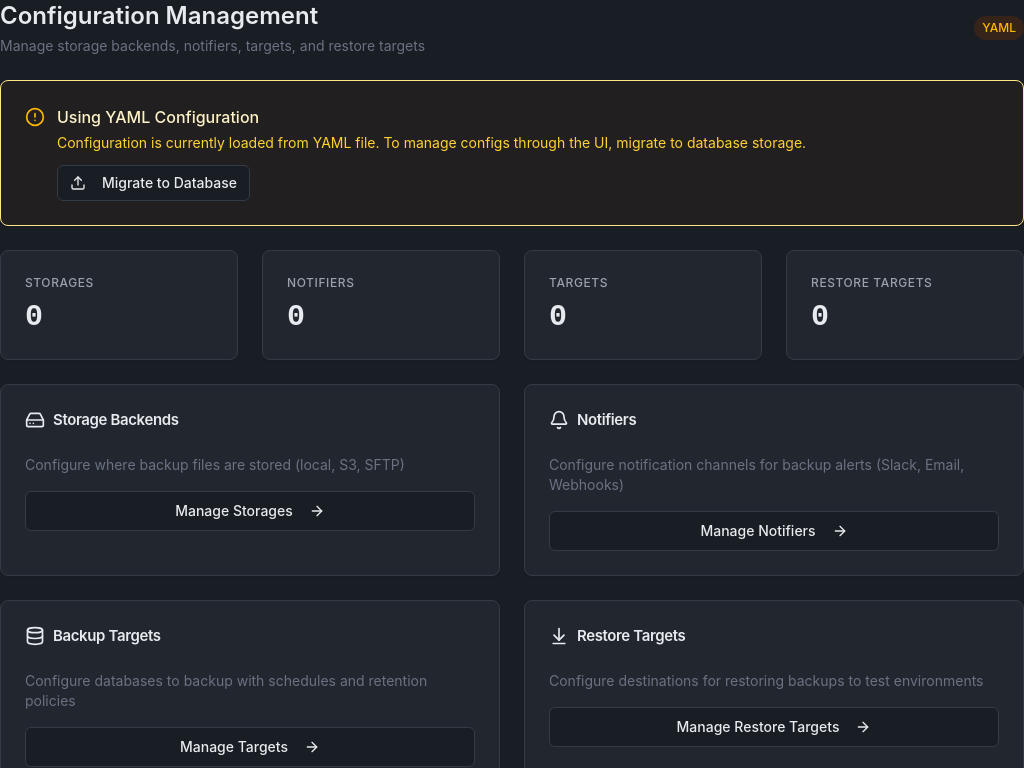
ConfigDashboardPage › migrates once the confirmation is accepted
Click the button "Migrate to Database".
click(154, 183)  # box [57,165,250,201]
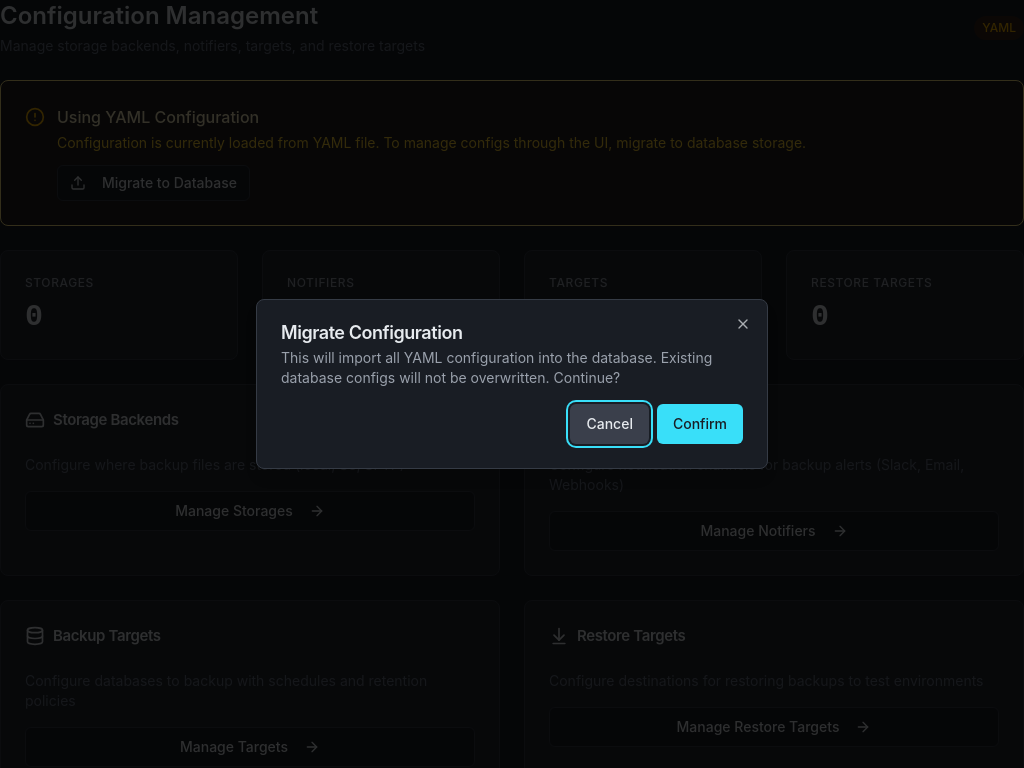
Now the dialog is shown, box [256,299,768,469]
Click the button "Confirm".
click(700, 424)  # box [657,404,743,444]
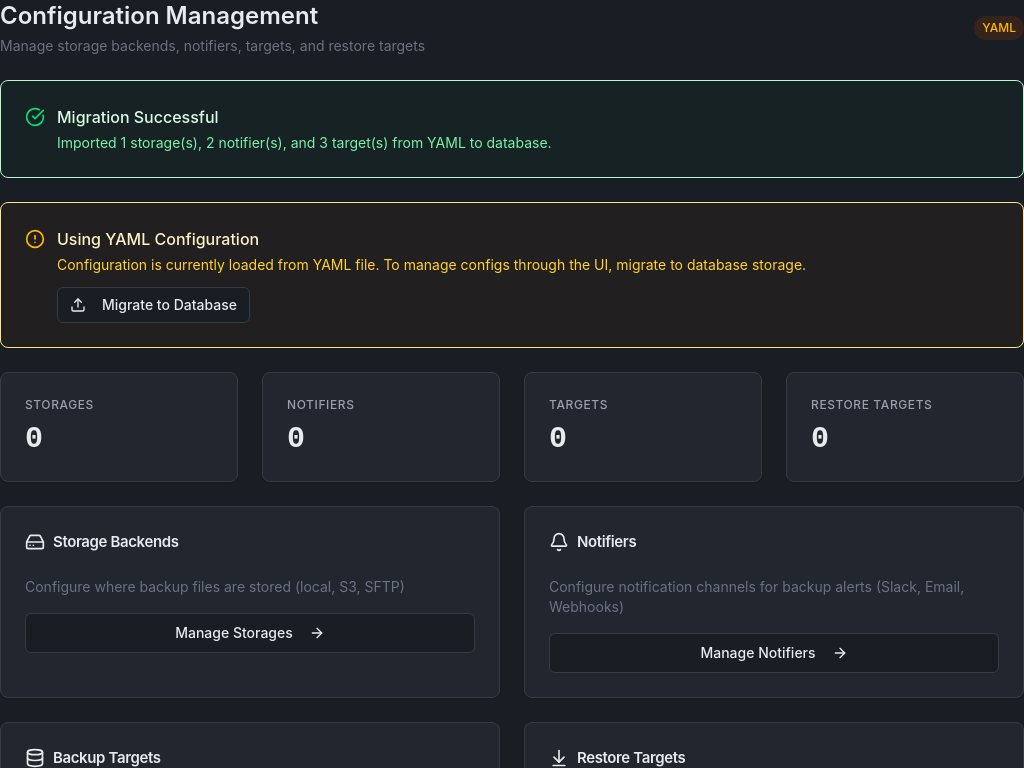
Now the heading "Migration Successful" is shown, box [57,107,219,127]
